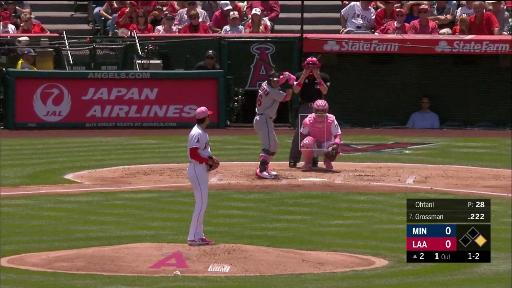pitcher: (186, 107, 222, 246)
